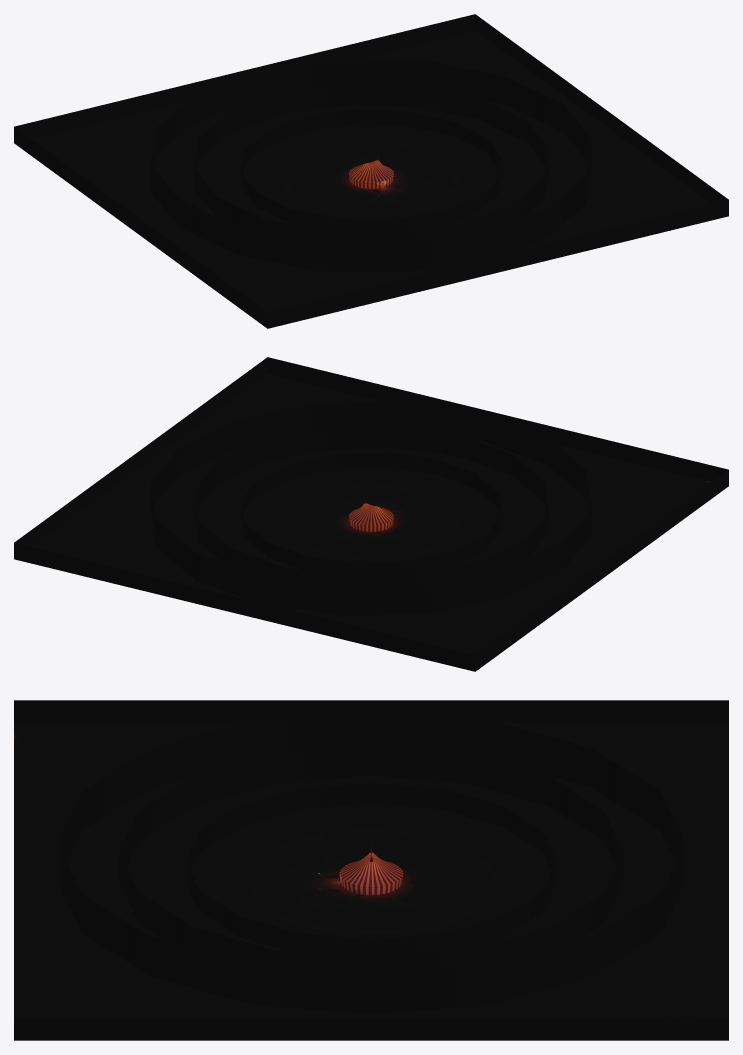
The model's file is TentScene.glb.
3 renders of one model, top to bottom at view 1: azimuth 30°, elevation 25°; view 2: azimuth 150°, elevation 25°; view 3: azimuth 270°, elevation 25°, orthographic. The views are drawn at different scales.
Visible parts, largest first — view 1: Omgeving, Omgeving.Bomen, Circus_Tent; view 2: Omgeving, Omgeving.Bomen, Circus_Tent; view 3: Omgeving, Omgeving.Bomen, Circus_Tent.
Part boxes in pixels (x1,y1,x2,y2): Omgeving: (14, 14, 728, 328); Omgeving.Bomen: (151, 58, 591, 272); Circus_Tent: (346, 153, 399, 189); Omgeving: (14, 357, 728, 671); Omgeving.Bomen: (151, 401, 591, 615); Circus_Tent: (343, 496, 398, 531); Omgeving: (14, 700, 728, 1040); Omgeving.Bomen: (57, 710, 685, 1014); Circus_Tent: (334, 840, 403, 905).
Size of the model in its own units: 239 by 13.99 by 227.
11 materials, 6 textured.
